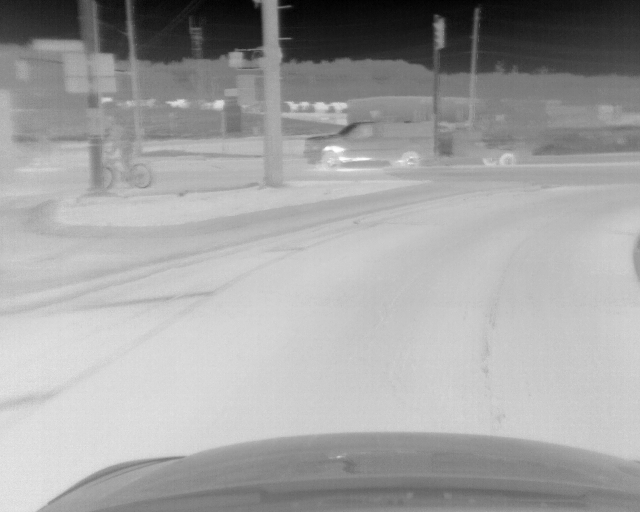bike: (103, 155, 151, 188)
car: (305, 119, 518, 168)
people: (104, 122, 136, 176)
